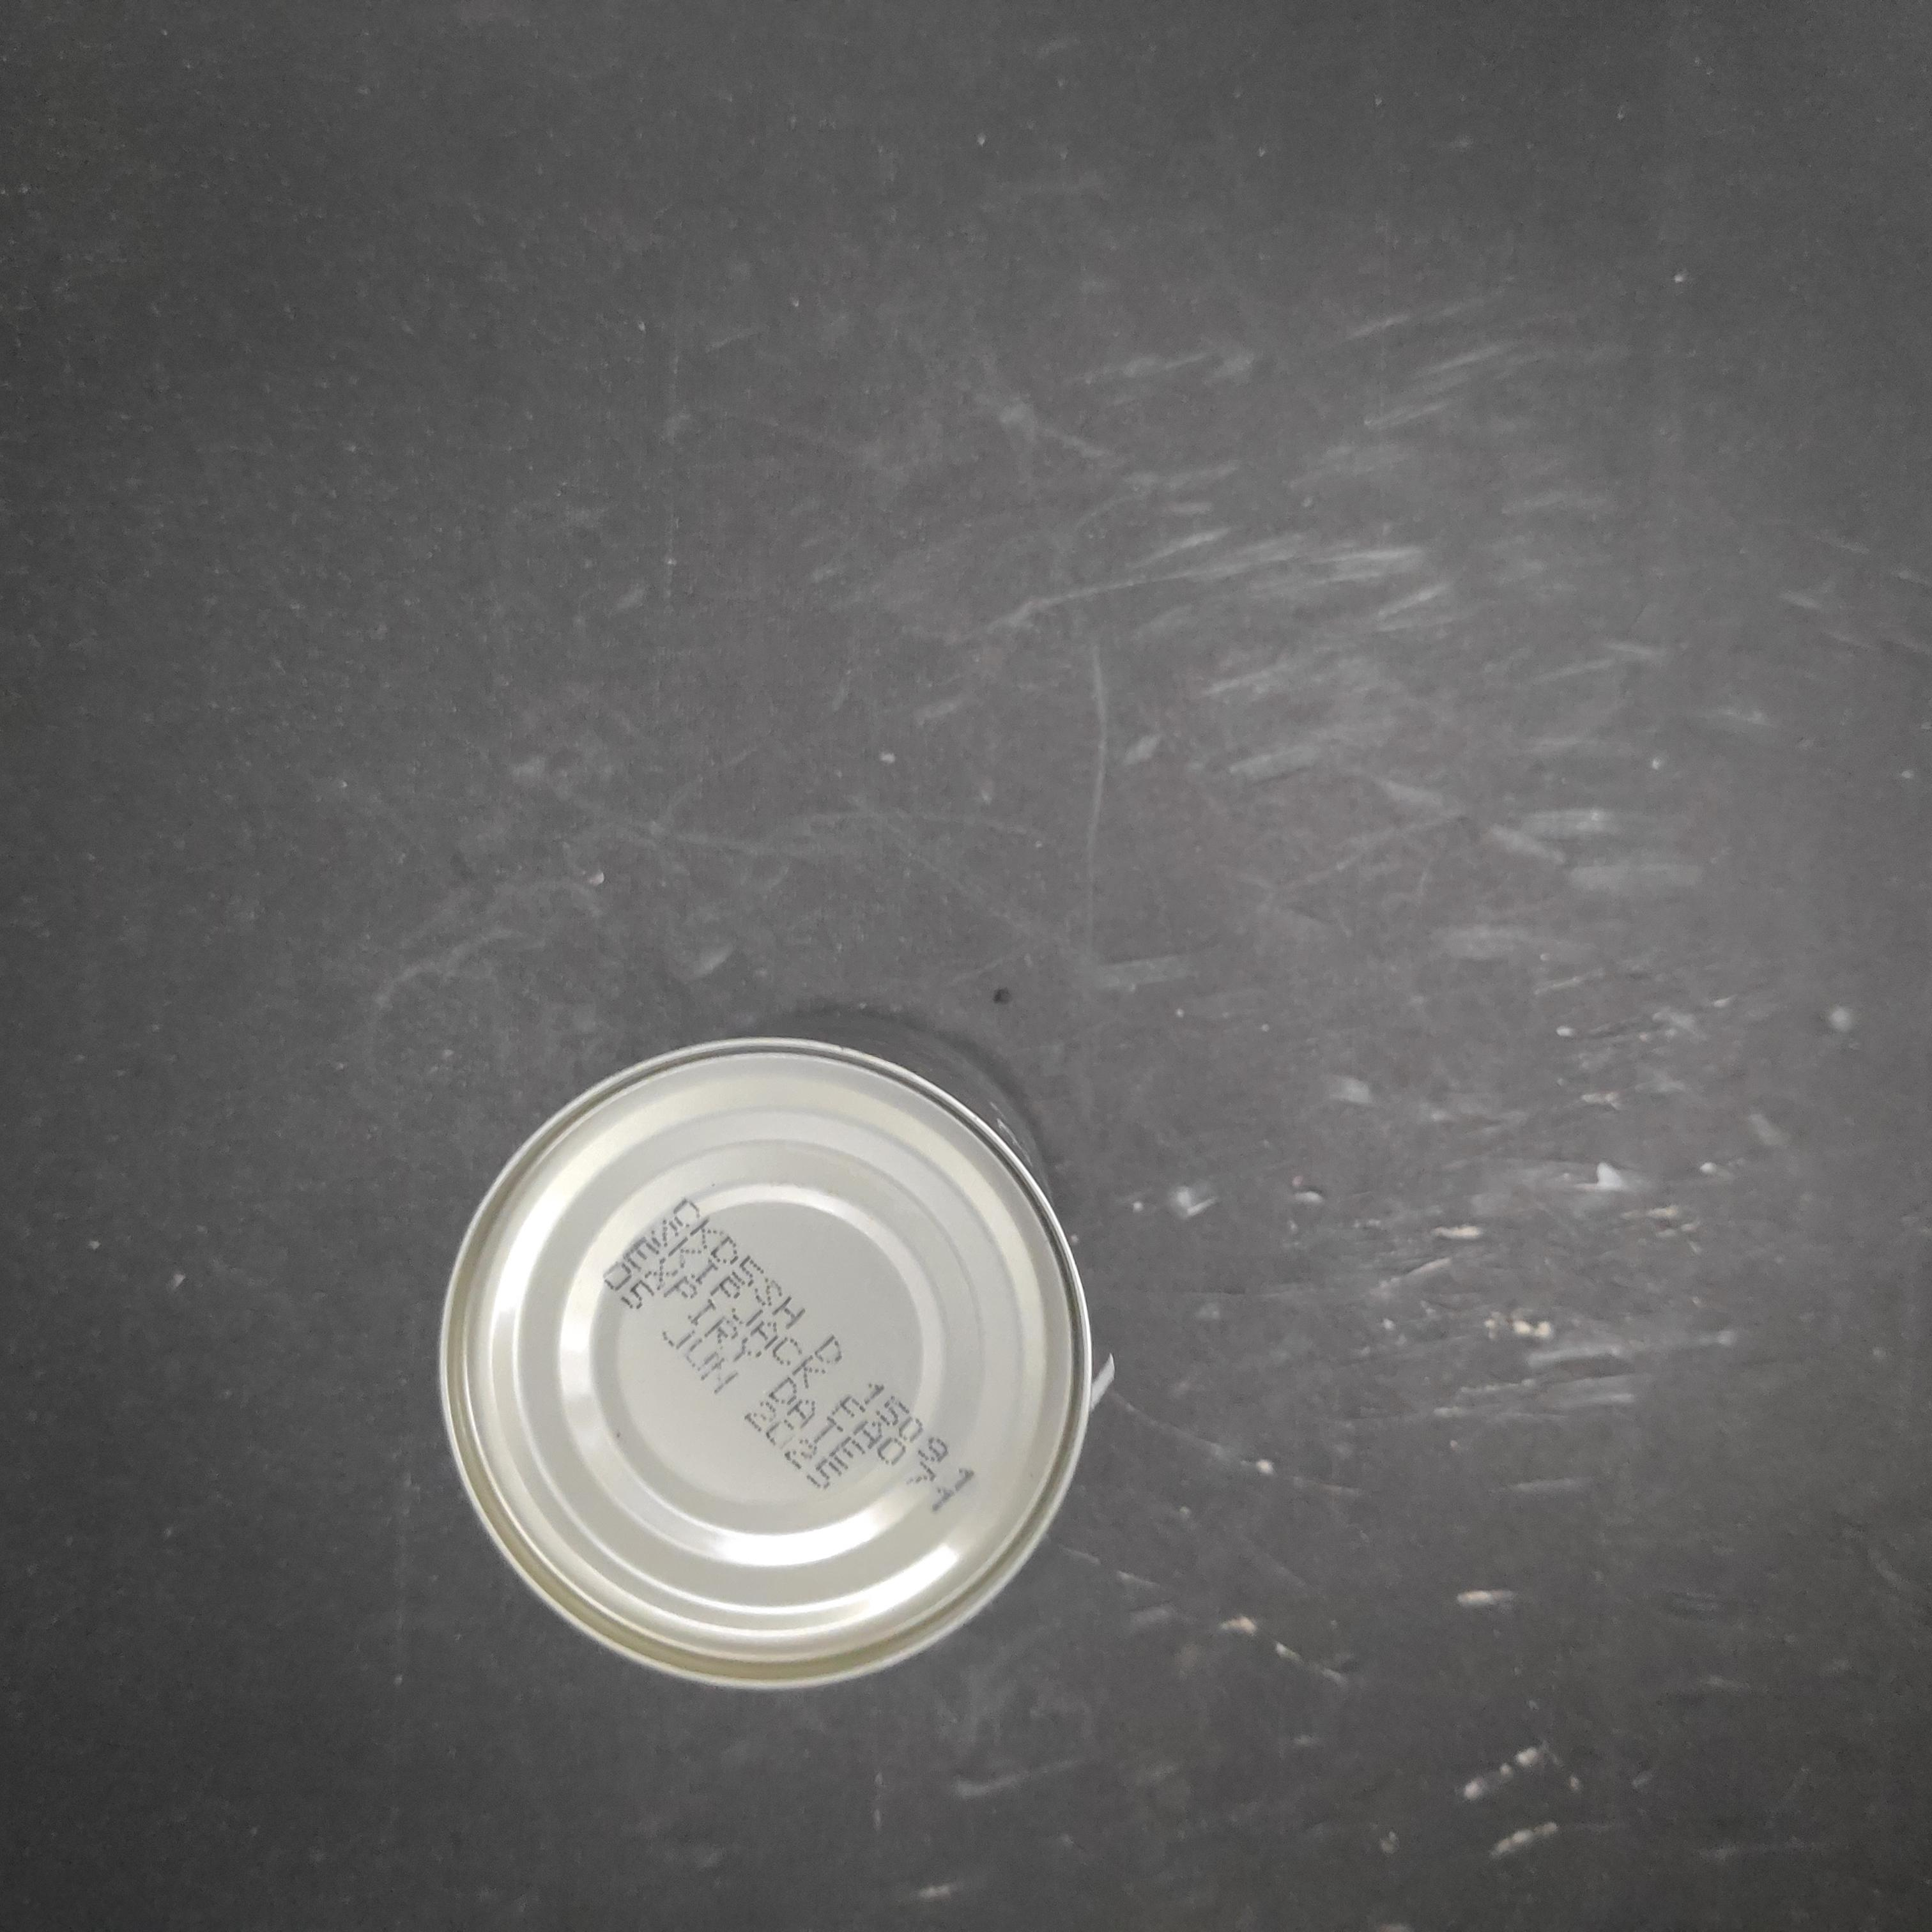No defect: (419, 1023, 1111, 1704)
